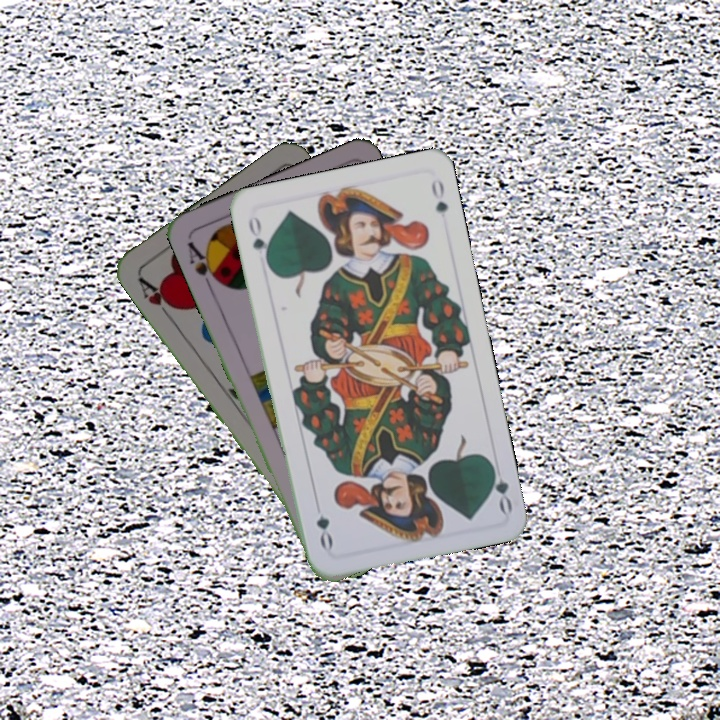GO: (486, 458, 515, 516), (244, 212, 272, 269)
HA: (134, 273, 180, 323)
SA: (183, 237, 224, 292)
